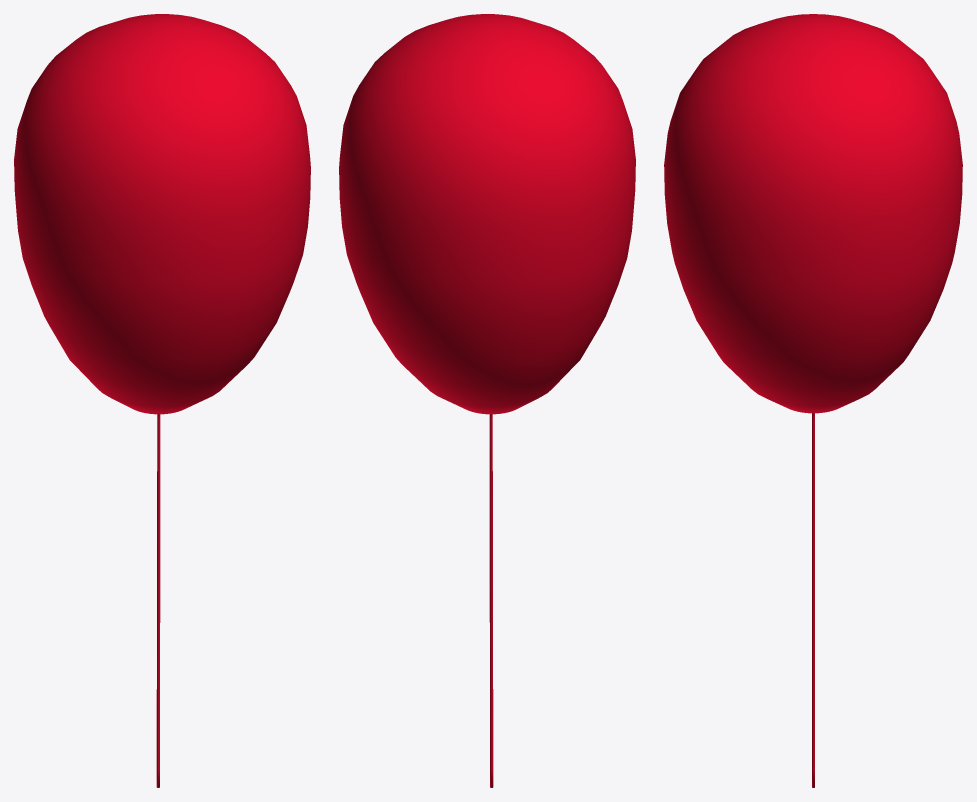
3 views of the same model, side by side, from view 1: azimuth 30°, elevation 25°; view 2: azimuth 150°, elevation 25°; view 3: azimuth 270°, elevation 25° (orthographic).
Parts seen in each view (by area): view 1: Sphere; view 2: Sphere; view 3: Sphere.
Boxes of the visible parts, x1,y1,x2,y2 form: Sphere: (14,14,310,787); Sphere: (339,14,635,787); Sphere: (664,14,962,787).
Size of the model in its own units: 1.65 by 4.63 by 1.65.
